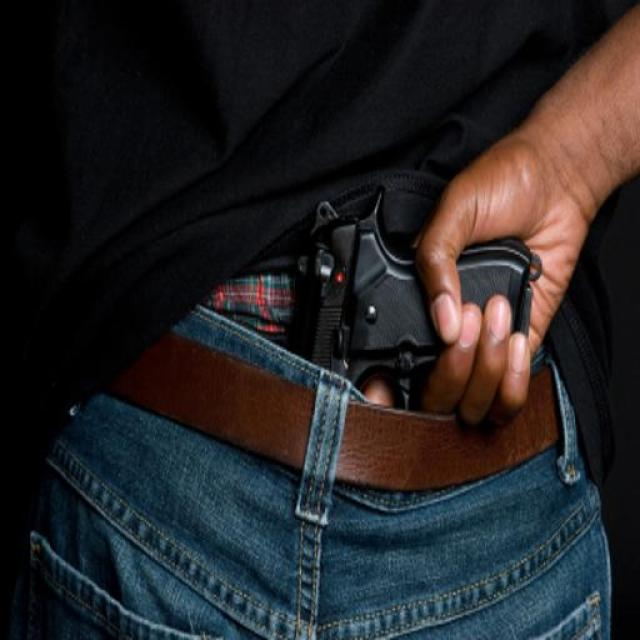pistol: (287, 185, 545, 491)
